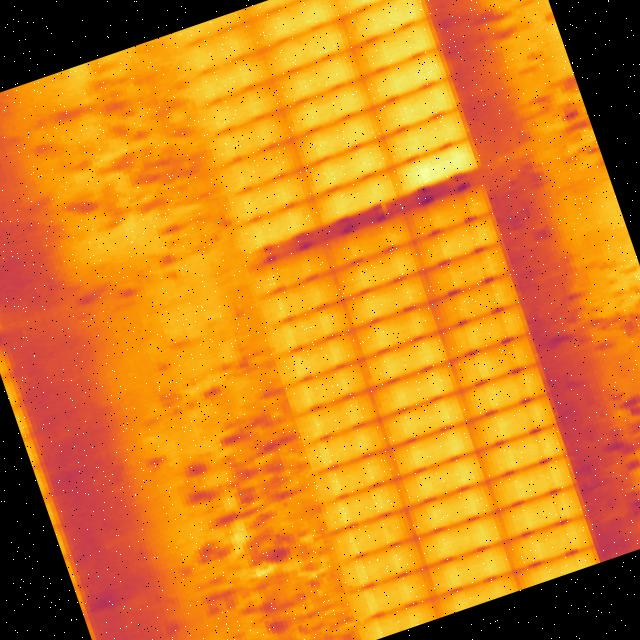Hotspot: (390, 140, 480, 194), (384, 110, 472, 162), (374, 82, 459, 132), (365, 51, 445, 98), (368, 22, 438, 68), (353, 0, 428, 37), (337, 0, 418, 11)
